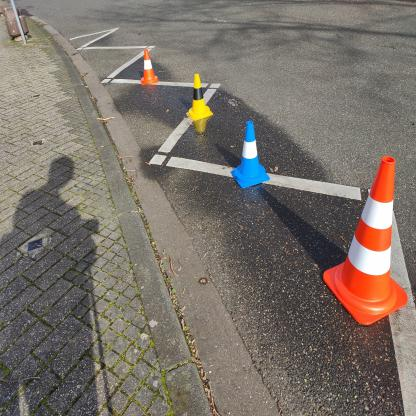Cones_big: (321, 147, 414, 329)
Cones_small_blue: (229, 116, 273, 191)
Cones_small_orange: (138, 46, 161, 89)
Cones_small_yellow: (186, 63, 216, 130)
